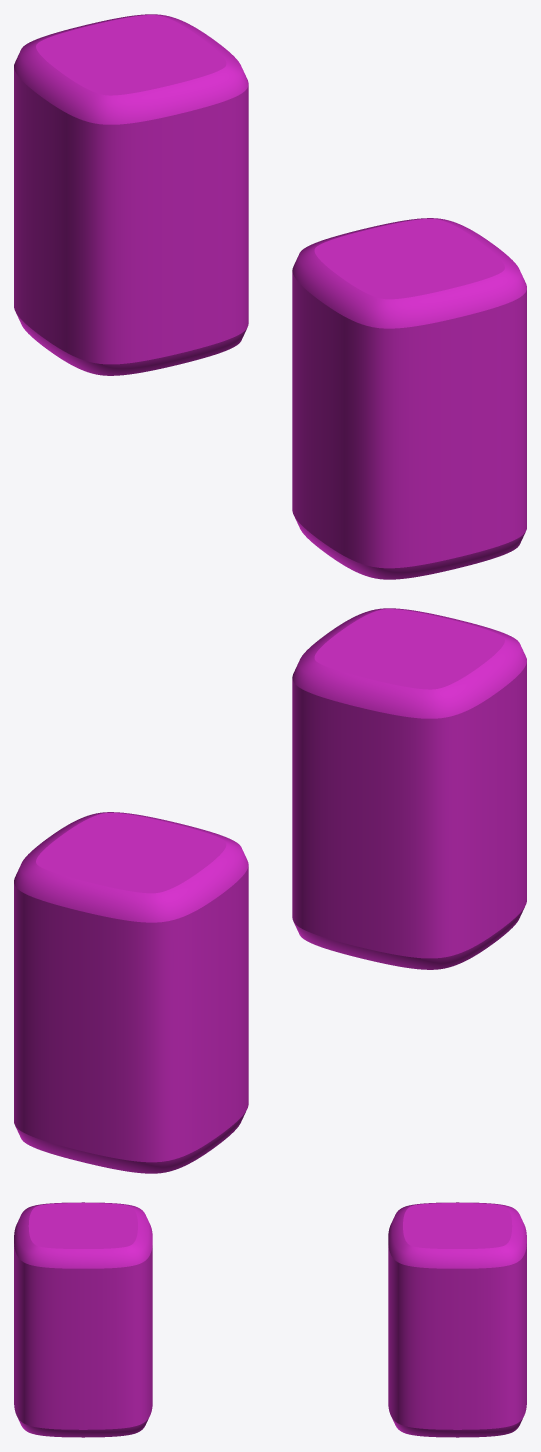
Rendered from Colon.fbx.
3 views of the same model, one above another, from view 1: azimuth 30°, elevation 25°; view 2: azimuth 150°, elevation 25°; view 3: azimuth 270°, elevation 25° (orthographic). The views are drawn at different scales.
Visible parts, largest first — view 1: Colon; view 2: Colon; view 3: Colon.
Part boxes in pixels (box(x1,y1,x2,y2)): Colon: box(14, 14, 526, 579); Colon: box(14, 608, 526, 1173); Colon: box(14, 1202, 526, 1437).
Size of the model in its own units: 0.0938 by 0.14 by 0.3465.
